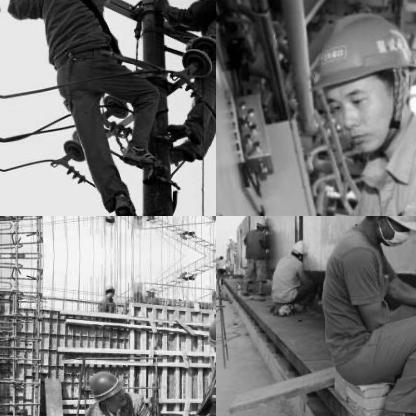Helmet: (300, 4, 415, 156), (352, 216, 415, 248), (84, 367, 126, 407), (205, 309, 215, 358), (286, 236, 306, 258), (252, 216, 269, 232), (103, 282, 115, 300), (103, 216, 116, 227), (145, 282, 155, 296), (145, 216, 156, 227)
